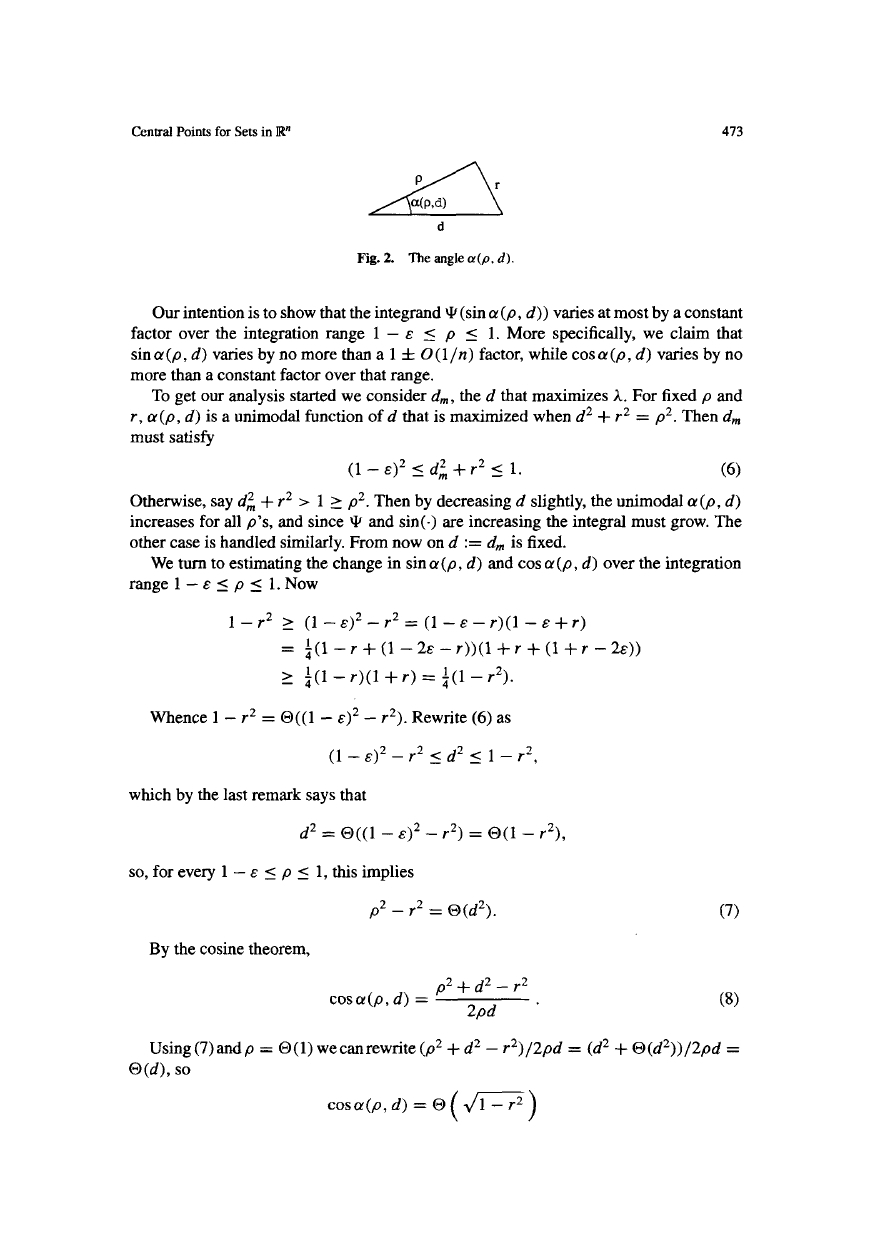figure: (368, 161, 502, 230)
formula: (330, 975, 738, 1020), (348, 457, 740, 480), (281, 637, 640, 660), (369, 898, 738, 919), (229, 611, 585, 631), (327, 1089, 535, 1122), (282, 664, 512, 689), (300, 821, 564, 842), (329, 744, 536, 764)
